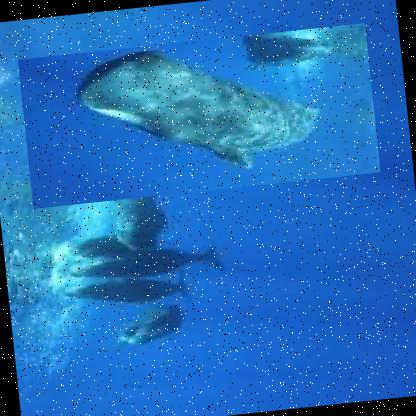sperm_whale: (17, 22, 381, 209), (64, 232, 276, 284)
